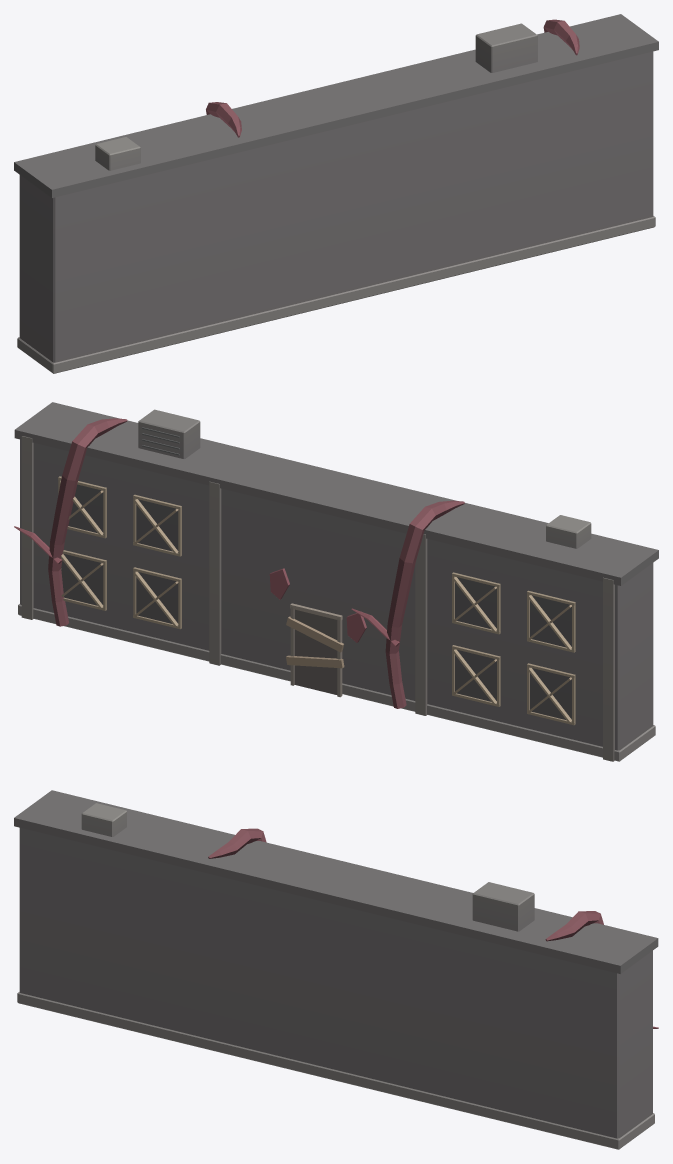
File: PT_InfectedFacadeB.glb
3 views of the same model, one above another, from view 1: azimuth 30°, elevation 25°; view 2: azimuth 150°, elevation 25°; view 3: azimuth 330°, elevation 25° (orthographic).
Visible parts, largest first — view 1: Body; view 2: Body; view 3: Body.
Part boxes in pixels (x1,y1,x2,y2): Body: (14,14,658,373); Body: (14,402,658,761); Body: (14,790,658,1149).
Bounding box in the file's own units: 64.7 × 21.7 × 8.56.
